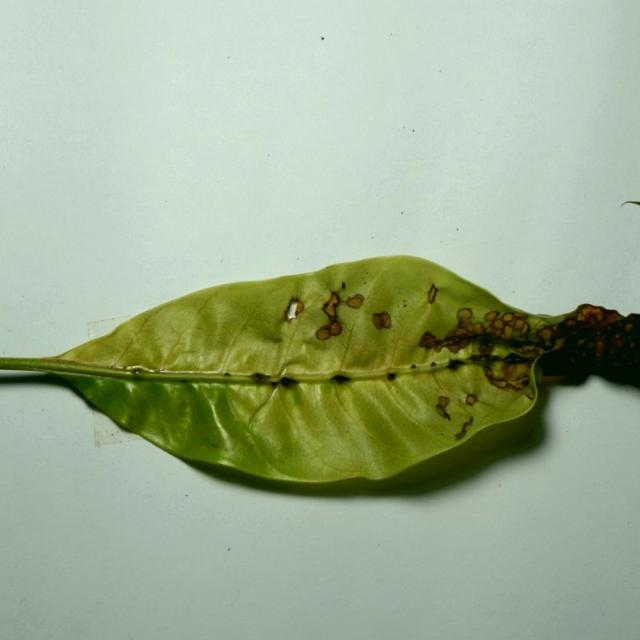Anthracnose: (424, 305, 541, 382), (558, 306, 636, 366), (434, 392, 476, 437), (326, 294, 368, 330), (422, 331, 473, 354), (574, 304, 608, 322), (284, 297, 304, 322), (435, 396, 451, 420), (418, 331, 438, 349), (486, 317, 504, 334), (346, 294, 364, 309), (458, 318, 475, 333), (456, 307, 472, 321), (427, 284, 438, 304), (330, 374, 352, 384), (125, 365, 149, 374), (279, 377, 299, 387), (484, 310, 499, 322), (252, 372, 272, 381), (447, 359, 465, 369), (501, 312, 515, 323), (466, 394, 478, 406), (514, 318, 525, 330), (513, 313, 527, 322), (624, 322, 634, 332), (565, 319, 577, 327), (387, 373, 397, 381), (270, 381, 281, 388), (341, 281, 346, 290), (430, 361, 436, 367), (410, 364, 417, 369), (224, 372, 231, 377), (403, 304, 407, 308)
Mango: (0, 256, 639, 495)
